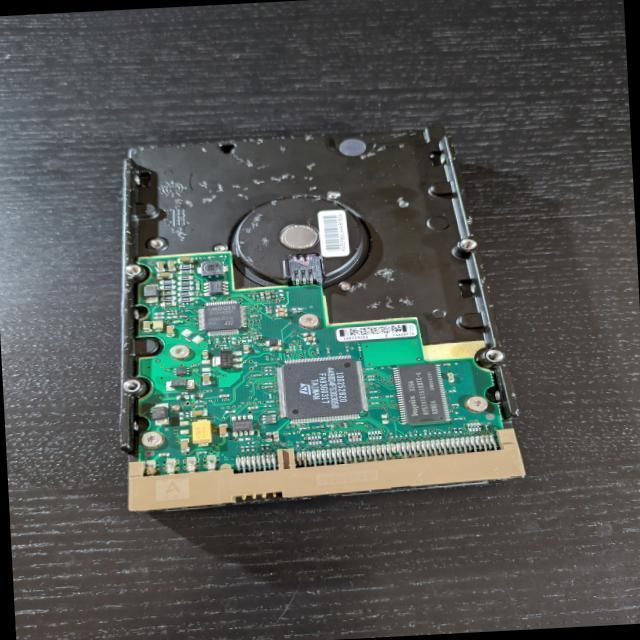DISK: (102, 120, 530, 516)
